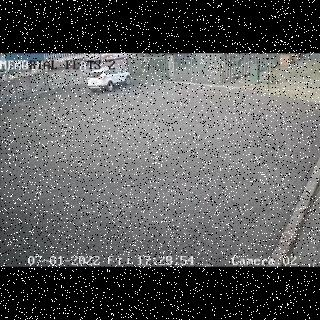car: (87, 65, 133, 91)
